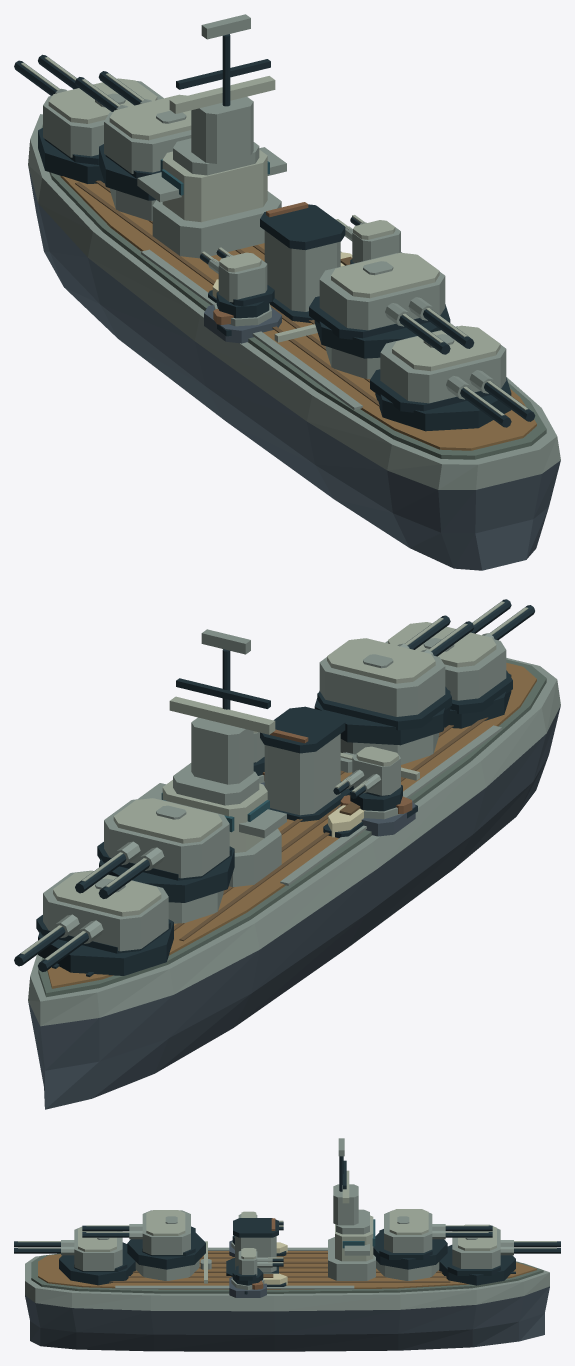
Rendered from historic-warspite.glb.
3 views of the same model, one above another, from view 1: azimuth 30°, elevation 25°; view 2: azimuth 150°, elevation 25°; view 3: azimuth 270°, elevation 25° (orthographic). The views are drawn at different scales.
Visible parts, largest first — view 1: historic-warspite-historic-warspite-geometry, historic-warspite-part_bridge.013-geometry, historic-warspite-turret_main_3.004-geometry, historic-warspite-turret_main_2.009-geometry, historic-warspite-turret_main_1.009-geometry, historic-warspite-turret_main_0.010-geometry, historic-warspite-historic_funnel_0.014-geometry, historic-warspite-turret_aa_aa-port.015-geometry, historic-warspite-turret_aa_aa-starboard.013-geometry, historic-warspite-part_aa-port.015-geometry; view 2: historic-warspite-historic-warspite-geometry, historic-warspite-part_bridge.013-geometry, historic-warspite-turret_main_2.009-geometry, historic-warspite-turret_main_0.010-geometry, historic-warspite-turret_main_1.009-geometry, historic-warspite-historic_funnel_0.014-geometry, historic-warspite-turret_main_3.004-geometry, historic-warspite-turret_aa_aa-port.015-geometry, historic-warspite-part_aa-port.015-geometry; view 3: historic-warspite-historic-warspite-geometry, historic-warspite-turret_main_2.009-geometry, historic-warspite-turret_main_1.009-geometry, historic-warspite-part_bridge.013-geometry, historic-warspite-turret_main_0.010-geometry, historic-warspite-turret_main_3.004-geometry, historic-warspite-historic_funnel_0.014-geometry, historic-warspite-turret_aa_aa-starboard.013-geometry, historic-warspite-part_aa-starboard.013-geometry.
Part boxes in pixels (x1,y1,x2,y2): historic-warspite-historic-warspite-geometry: (28, 114, 560, 570); historic-warspite-part_bridge.013-geometry: (137, 14, 286, 258); historic-warspite-turret_main_3.004-geometry: (370, 325, 535, 431); historic-warspite-turret_main_2.009-geometry: (309, 252, 474, 358); historic-warspite-turret_main_1.009-geometry: (75, 71, 191, 200); historic-warspite-turret_main_0.010-geometry: (14, 54, 163, 183); historic-warspite-historic_funnel_0.014-geometry: (260, 202, 345, 322); historic-warspite-turret_aa_aa-port.015-geometry: (200, 247, 274, 318); historic-warspite-turret_aa_aa-starboard.013-geometry: (336, 215, 401, 264); historic-warspite-part_aa-port.015-geometry: (204, 303, 281, 343); historic-warspite-historic-warspite-geometry: (28, 658, 560, 1109); historic-warspite-part_bridge.013-geometry: (138, 629, 286, 887); historic-warspite-turret_main_2.009-geometry: (314, 615, 474, 745); historic-warspite-turret_main_0.010-geometry: (14, 870, 173, 975); historic-warspite-turret_main_1.009-geometry: (75, 797, 234, 902); historic-warspite-historic_funnel_0.014-geometry: (260, 706, 350, 821); historic-warspite-turret_main_3.004-geometry: (385, 599, 534, 728); historic-warspite-turret_aa_aa-port.015-geometry: (333, 746, 402, 811); historic-warspite-part_aa-port.015-geometry: (337, 796, 415, 836); historic-warspite-historic-warspite-geometry: (25, 1242, 549, 1351); historic-warspite-turret_main_2.009-geometry: (82, 1210, 205, 1269); historic-warspite-turret_main_1.009-geometry: (373, 1209, 492, 1269); historic-warspite-part_bridge.013-geometry: (328, 1138, 375, 1280); historic-warspite-turret_main_0.010-geometry: (439, 1224, 560, 1285); historic-warspite-turret_main_3.004-geometry: (14, 1226, 135, 1285); historic-warspite-historic_funnel_0.014-geometry: (226, 1218, 278, 1276); historic-warspite-turret_aa_aa-starboard.013-geometry: (232, 1248, 283, 1285); historic-warspite-part_aa-starboard.013-geometry: (229, 1277, 266, 1297).
Size of the model in its own units: 1.14 by 1.92 by 4.99.
